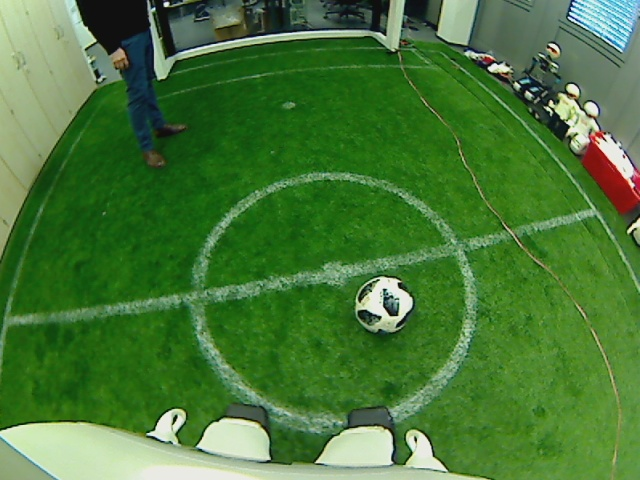ball: (354, 276, 414, 334)
